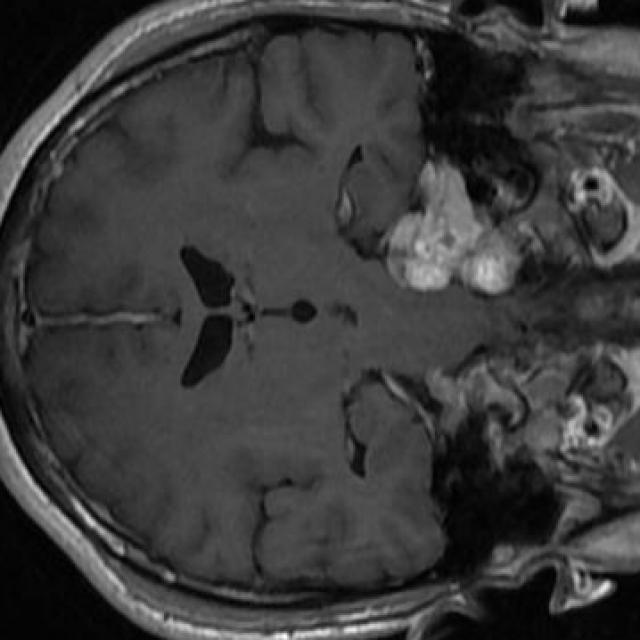meningioma: (385, 162, 521, 296)
